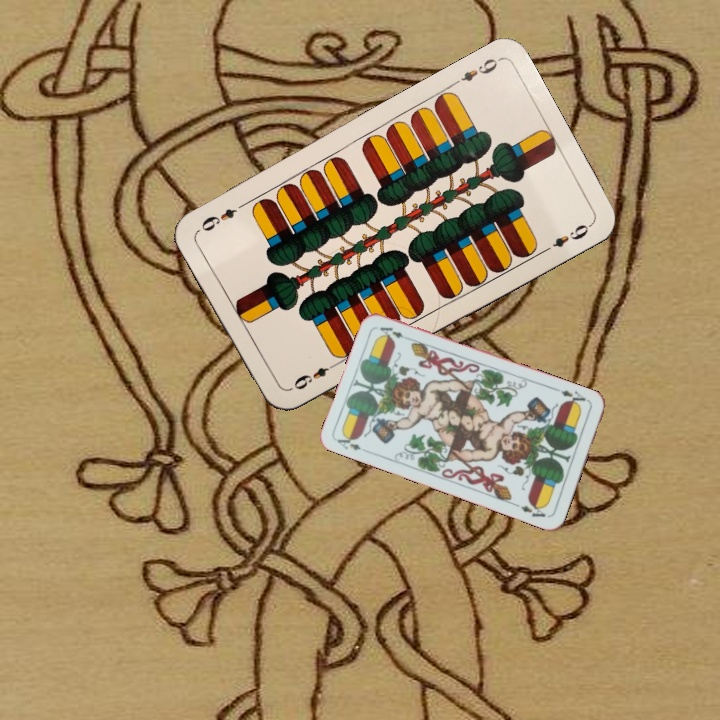E9: (447, 54, 502, 89), (285, 359, 339, 394)
EA: (552, 384, 591, 409), (333, 430, 372, 454)
